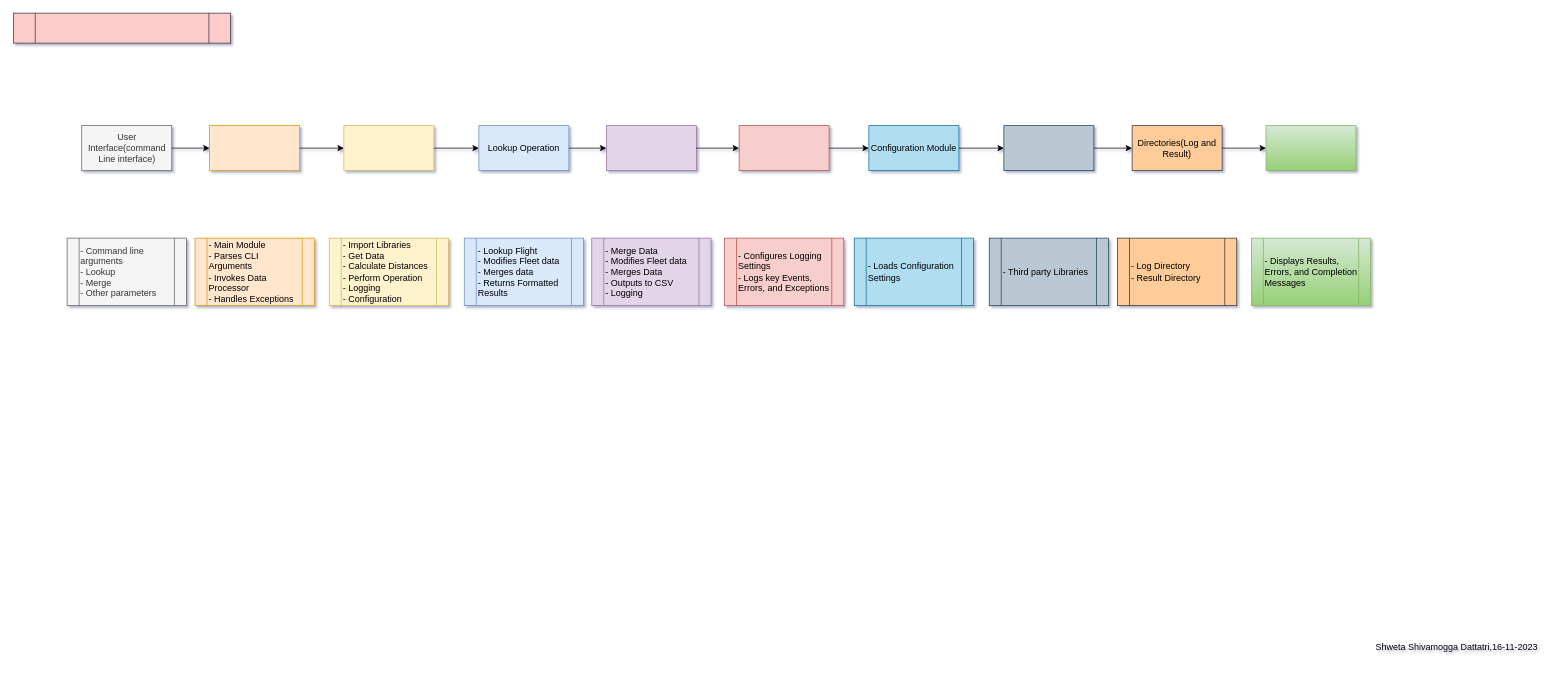
The diagram is 1560 pixels wide and 676 high, and some of its shapes have lost their labels. The centre of each missing label's shape, as x and y in pixels:
"Console output" belongs at pixel 1310 148.
"External Dependencies" belongs at pixel 1048 148.
"Flight Data Processor Module" belongs at pixel 388 148.
"Flight Lookup App" belongs at pixel 254 148.
"High Level Flow- Data Scheduler" belongs at pixel 122 27.
"Logging Module" belongs at pixel 783 148.
"Merge Operation" belongs at pixel 651 148.
